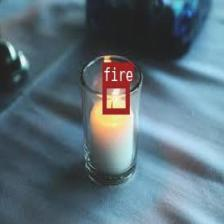fire: (102, 82, 128, 112)
